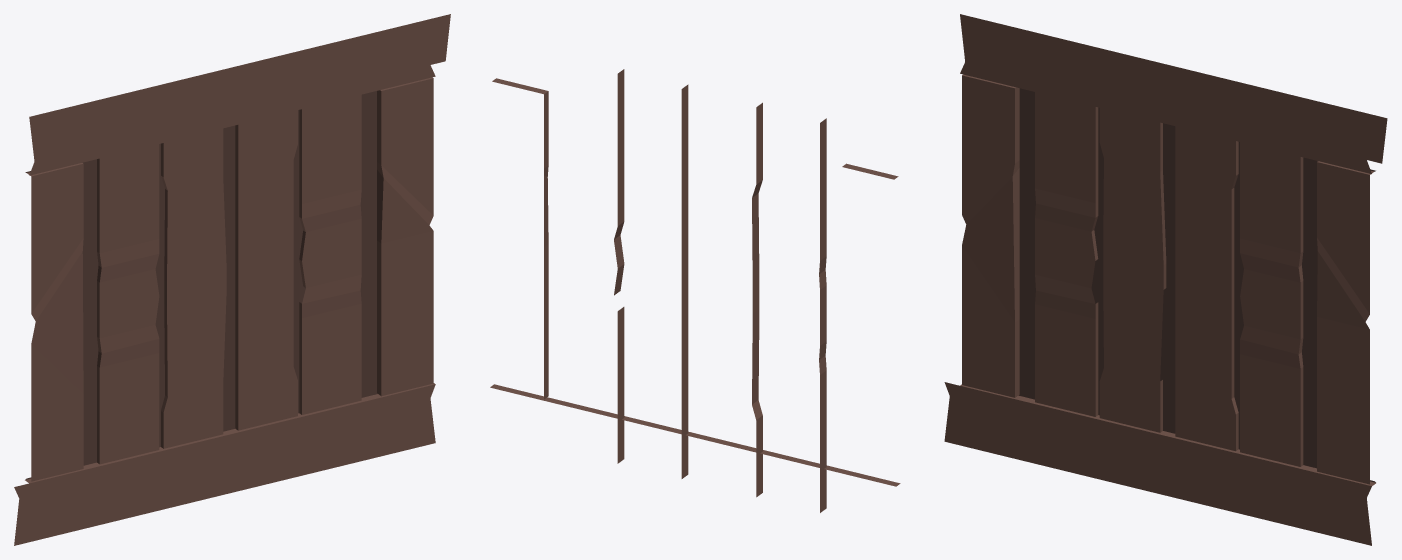
Rendered from Wall.glb.
The picture shows the model from 3 angles, left to right: view 1: azimuth 30°, elevation 25°; view 2: azimuth 150°, elevation 25°; view 3: azimuth 330°, elevation 25°; orthographic projection.
Parts seen in each view (by area): view 1: Crate.729; view 2: Crate.729; view 3: Crate.729.
Boxes of the visible parts, x1,y1,x2,y2 form: Crate.729: (14,14,450,545); Crate.729: (490,69,900,512); Crate.729: (944,14,1387,545).
Size of the model in its own units: 1.35 by 1.25 by 0.049.
